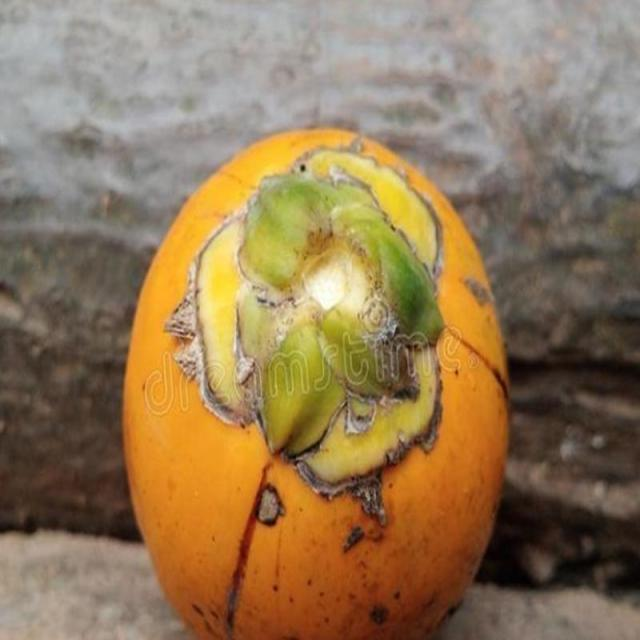good: (120, 128, 510, 639)
